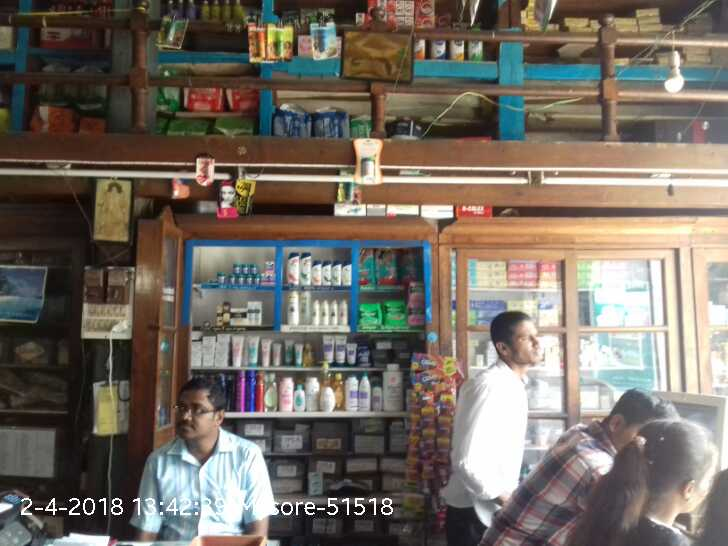vicks: (213, 261, 262, 284), (262, 254, 280, 284)
